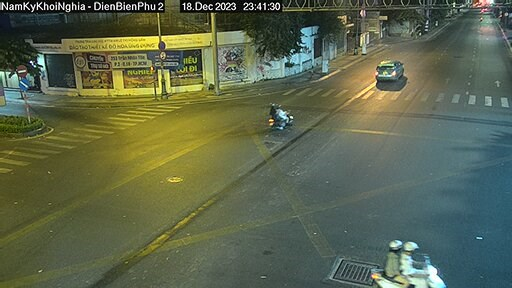car: (367, 54, 405, 87)
motorbike: (364, 229, 440, 281), (266, 100, 298, 135)
